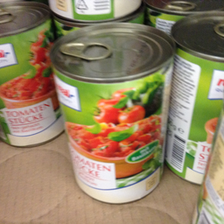tomato_sauce: (49, 22, 174, 205), (1, 2, 62, 149)
